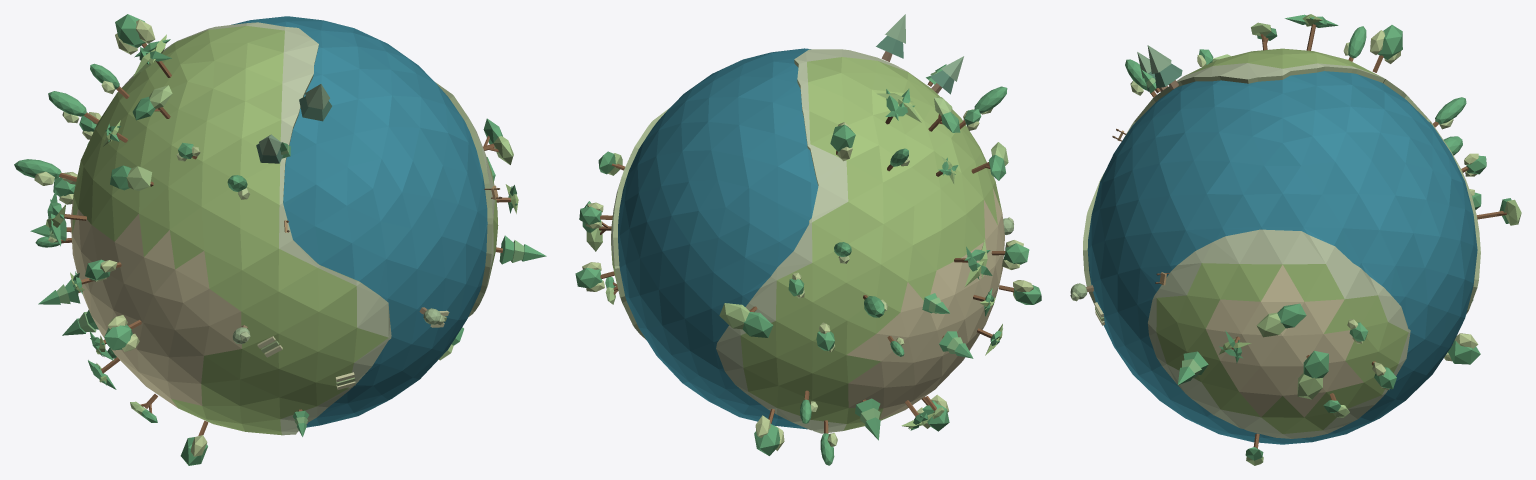
Rendered from earth-mobile.glb.
3 views of the same model, side by side, from view 1: azimuth 30°, elevation 25°; view 2: azimuth 150°, elevation 25°; view 3: azimuth 270°, elevation 25° (orthographic). The views are drawn at different scales.
Parts seen in each view (by area): view 1: Terrain • modeled surfaces, Structures • modeled surfaces; view 2: Terrain • modeled surfaces, Structures • modeled surfaces; view 3: Terrain • modeled surfaces, Structures • modeled surfaces.
Boxes of the visible parts, box(x1,y1,x2,y2) form: Terrain • modeled surfaces: box(70, 16, 498, 435); Structures • modeled surfaces: box(14, 14, 546, 465); Terrain • modeled surfaces: box(611, 48, 1004, 433); Structures • modeled surfaces: box(575, 14, 1041, 465); Terrain • modeled surfaces: box(1083, 48, 1480, 444); Structures • modeled surfaces: box(1070, 14, 1521, 465).
Bounding box in the file's own units: 2.44 × 2.09 × 2.28.
